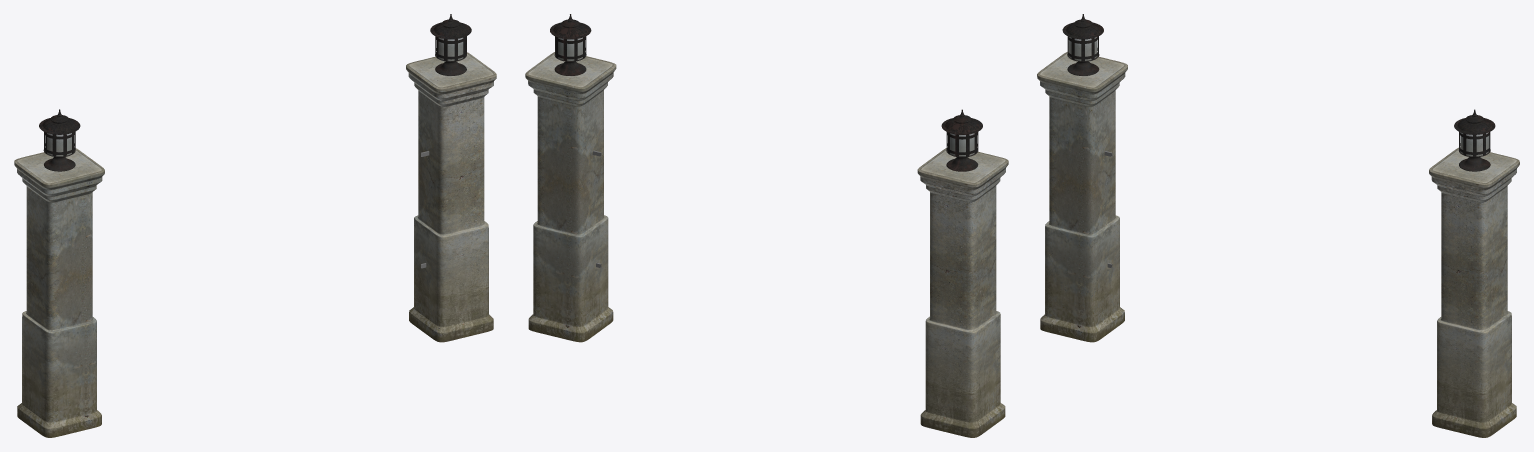
File: puertatotal.obj
3 views of the same model, side by side, from view 1: azimuth 30°, elevation 25°; view 2: azimuth 150°, elevation 25°; view 3: azimuth 330°, elevation 25° (orthographic).
Parts seen in each view (by area): view 1: Ancient_Gate_Model_pillar_right_pillar_right, Ancient_Gate_Model_pillar_left_pillar_left, light_left_Ancient_Gate_Model_Gate_Light_lightupper, Ancient_Gate_Model_light_right_lightupper, Ancient_Gate_Model_lightlower_light_right, Gate_Light_lightlower_light_left_Ancient_Gate_Model; view 2: Ancient_Gate_Model_pillar_right_pillar_right, Ancient_Gate_Model_pillar_left_pillar_left, light_left_Ancient_Gate_Model_Gate_Light_lightupper, Ancient_Gate_Model_light_right_lightupper, Ancient_Gate_Model_lightlower_light_right, Gate_Light_lightlower_light_left_Ancient_Gate_Model; view 3: Ancient_Gate_Model_pillar_left_pillar_left, Ancient_Gate_Model_pillar_right_pillar_right, light_left_Ancient_Gate_Model_Gate_Light_lightupper, Ancient_Gate_Model_light_right_lightupper, Gate_Light_lightlower_light_left_Ancient_Gate_Model, Ancient_Gate_Model_lightlower_light_right.
Part boxes in pixels (<box>): Ancient_Gate_Model_pillar_right_pillar_right: <box>14,148,104,437</box>; Ancient_Gate_Model_pillar_left_pillar_left: <box>406,52,496,342</box>; light_left_Ancient_Gate_Model_Gate_Light_lightupper: <box>39,109,80,156</box>; Ancient_Gate_Model_light_right_lightupper: <box>430,14,471,61</box>; Ancient_Gate_Model_lightlower_light_right: <box>435,37,466,75</box>; Gate_Light_lightlower_light_left_Ancient_Gate_Model: <box>43,133,75,171</box>; Ancient_Gate_Model_pillar_right_pillar_right: <box>917,148,1008,437</box>; Ancient_Gate_Model_pillar_left_pillar_left: <box>525,52,616,342</box>; light_left_Ancient_Gate_Model_Gate_Light_lightupper: <box>941,109,982,156</box>; Ancient_Gate_Model_light_right_lightupper: <box>550,14,591,61</box>; Ancient_Gate_Model_lightlower_light_right: <box>554,37,586,75</box>; Gate_Light_lightlower_light_left_Ancient_Gate_Model: <box>946,133,978,171</box>; Ancient_Gate_Model_pillar_left_pillar_left: <box>1429,147,1519,437</box>; Ancient_Gate_Model_pillar_right_pillar_right: <box>1037,52,1127,342</box>; light_left_Ancient_Gate_Model_Gate_Light_lightupper: <box>1062,14,1103,61</box>; Ancient_Gate_Model_light_right_lightupper: <box>1454,109,1495,156</box>; Gate_Light_lightlower_light_left_Ancient_Gate_Model: <box>1067,37,1099,75</box>; Ancient_Gate_Model_lightlower_light_right: <box>1458,132,1490,171</box>.
Size of the model in its own units: 57.24 by 37.4 by 7.81.
